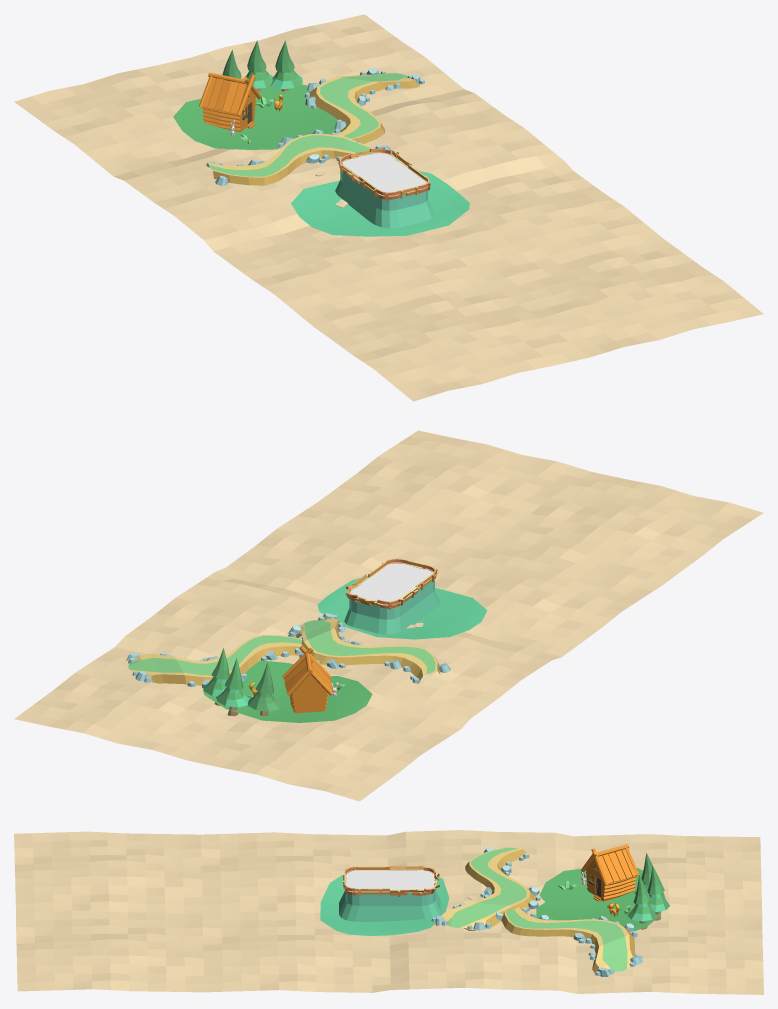
3 renders of one model, top to bottom at view 1: azimuth 30°, elevation 25°; view 2: azimuth 150°, elevation 25°; view 3: azimuth 270°, elevation 25°, orthographic. The views are drawn at different scales.
Visible parts, largest first — view 1: IceDecor02_0.006, ForestRoad_0.001, ForestSides_0, ForestGrass_0, ForestPlaneA_0, ForestHouse_0, ForestFirtreeB_0.002; view 2: IceDecor02_0.006, ForestRoad_0.001, ForestSides_0, ForestGrass_0, ForestPlaneA_0, ForestHouse_0, ForestFirtreeB_0.002; view 3: IceDecor02_0.006, ForestRoad_0.001, ForestSides_0, ForestGrass_0, ForestHouse_0, ForestPlaneA_0, ForestFirtreeB_0.002.
Part boxes in pixels (x1=…): IceDecor02_0.006: x1=14, y1=14, x2=763, y2=401; ForestRoad_0.001: x1=206, y1=67, x2=424, y2=185; ForestSides_0: x1=335, y1=147, x2=434, y2=228; ForestGrass_0: x1=173, y1=84, x2=341, y2=149; ForestPlaneA_0: x1=291, y1=171, x2=469, y2=236; ForestHouse_0: x1=198, y1=72, x2=282, y2=136; ForestFirtreeB_0.002: x1=222, y1=40, x2=302, y2=92; IceDecor02_0.006: x1=14, y1=430, x2=763, y2=801; ForestRoad_0.001: x1=126, y1=613, x2=450, y2=687; ForestSides_0: x1=344, y1=558, x2=440, y2=634; ForestGrass_0: x1=202, y1=660, x2=372, y2=722; ForestPlaneA_0: x1=317, y1=576, x2=487, y2=639; ForestHouse_0: x1=249, y1=646, x2=338, y2=713; ForestFirtreeB_0.002: x1=203, y1=648, x2=280, y2=716; IceDecor02_0.006: x1=14, y1=830, x2=763, y2=994; ForestRoad_0.001: x1=431, y1=847, x2=642, y2=976; ForestSides_0: x1=339, y1=866, x2=440, y2=921; ForestGrass_0: x1=536, y1=868, x2=665, y2=931; ForestHouse_0: x1=581, y1=844, x2=639, y2=916; ForestPlaneA_0: x1=320, y1=868, x2=449, y2=935; ForestFirtreeB_0.002: x1=627, y1=853, x2=669, y2=929.
Size of the model in its own units: 2026 by 321 by 3985.
